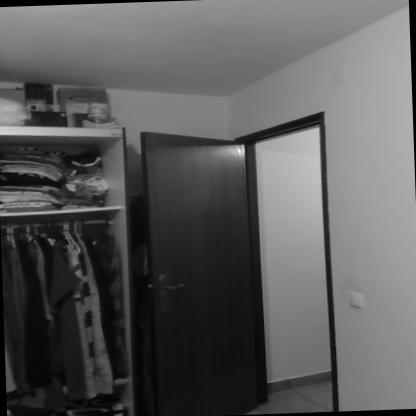open: (123, 102, 356, 414)
